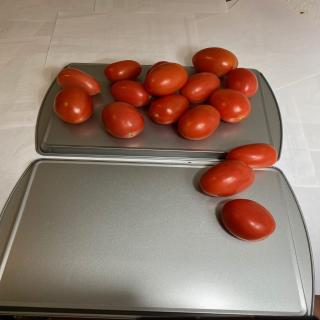Chilli: (53, 46, 259, 140)
Tomato: (221, 198, 276, 242), (200, 160, 256, 197), (102, 102, 144, 138), (178, 105, 221, 140), (144, 62, 188, 96), (54, 87, 94, 124), (209, 88, 251, 123), (192, 47, 238, 77), (226, 143, 278, 168), (180, 72, 220, 104), (56, 68, 101, 96), (149, 94, 189, 125), (110, 80, 152, 107), (225, 68, 258, 98), (104, 60, 142, 83), (146, 61, 170, 77)
